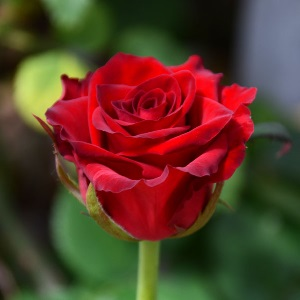rose: (53, 62, 255, 243)
